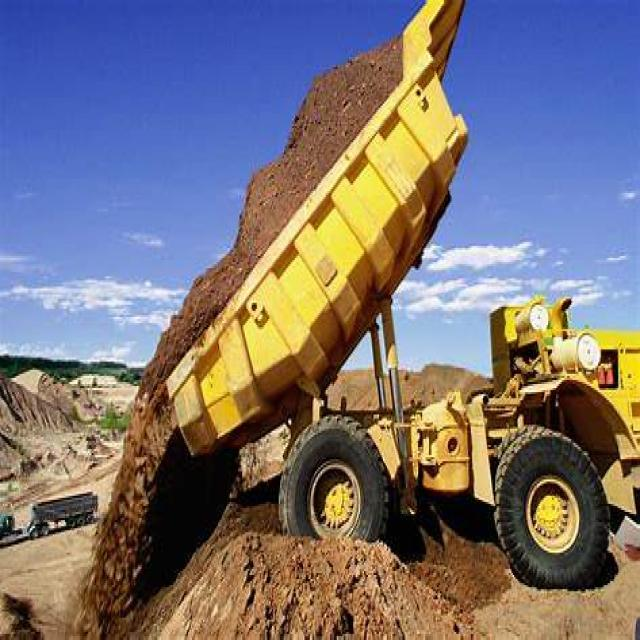dump_truck: (123, 2, 639, 610)
